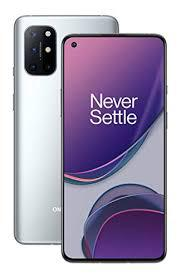Smartphone: (62, 30, 168, 259), (11, 8, 113, 243)
